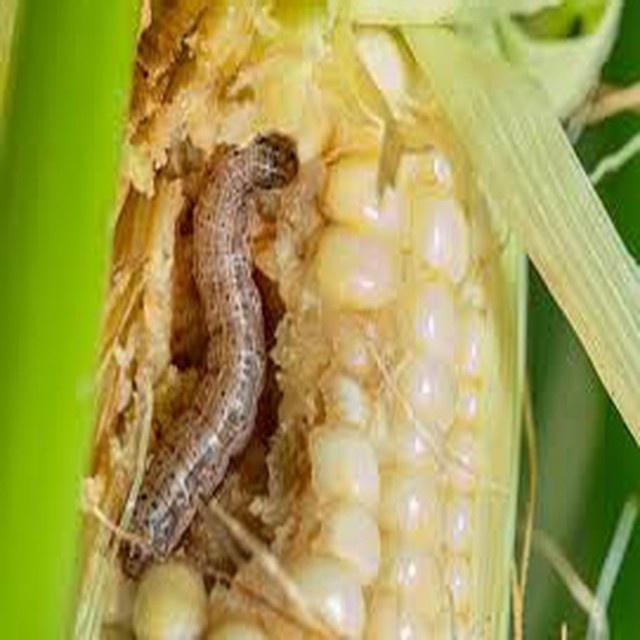gusano_cogollero: (124, 136, 304, 566)
